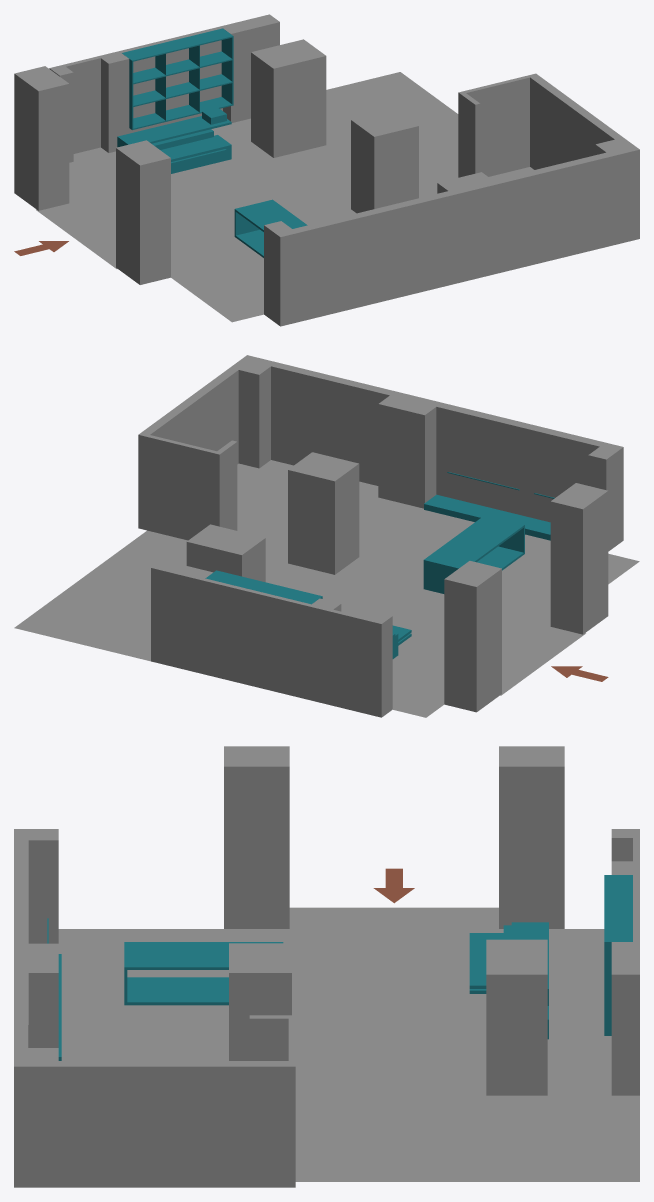
File: Zegna_Milano_ModelRef.FBX
3 renders of one model, top to bottom at view 1: azimuth 30°, elevation 25°; view 2: azimuth 150°, elevation 25°; view 3: azimuth 270°, elevation 25°, orthographic. The views are drawn at different scales.
Parts seen in each view (by area): view 1: boxmodel, Colonne ingresso, Scaffale molto di design, SLG Table, Concept Table; view 2: boxmodel, Colonne ingresso, Concept Table, Mensola molto di design, Scaffale molto di design; view 3: boxmodel, Colonne ingresso, Concept Table, Scaffale molto di design, SLG Table, Ingresso.
Boxes of the visible parts, x1,y1,x2,y2 form: boxmodel: (36,14,639,326); Colonne ingresso: (14,66,170,284); Scaffale molto di design: (122,28,233,129); SLG Table: (117,107,231,173); Concept Table: (234,199,307,257); boxmodel: (14,355,639,717); Colonne ingresso: (444,483,608,712); Concept Table: (423,515,524,593); Mensola molto di design: (424,494,550,540); Scaffale molto di design: (205,570,322,604); boxmodel: (14,829,639,1187); Colonne ingresso: (224,746,564,928); Concept Table: (124,942,283,1005); Scaffale molto di design: (604,875,632,1035); SLG Table: (469,922,548,1039); Ingresso: (373,868,414,903).
Size of the model in its own units: 1266 by 301 by 1050.
